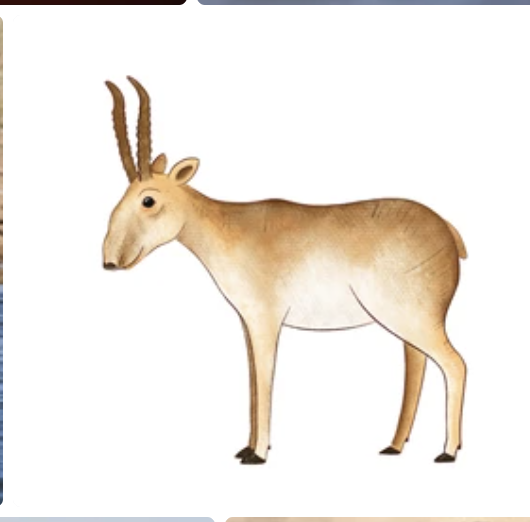saiga: (90, 70, 485, 480)
